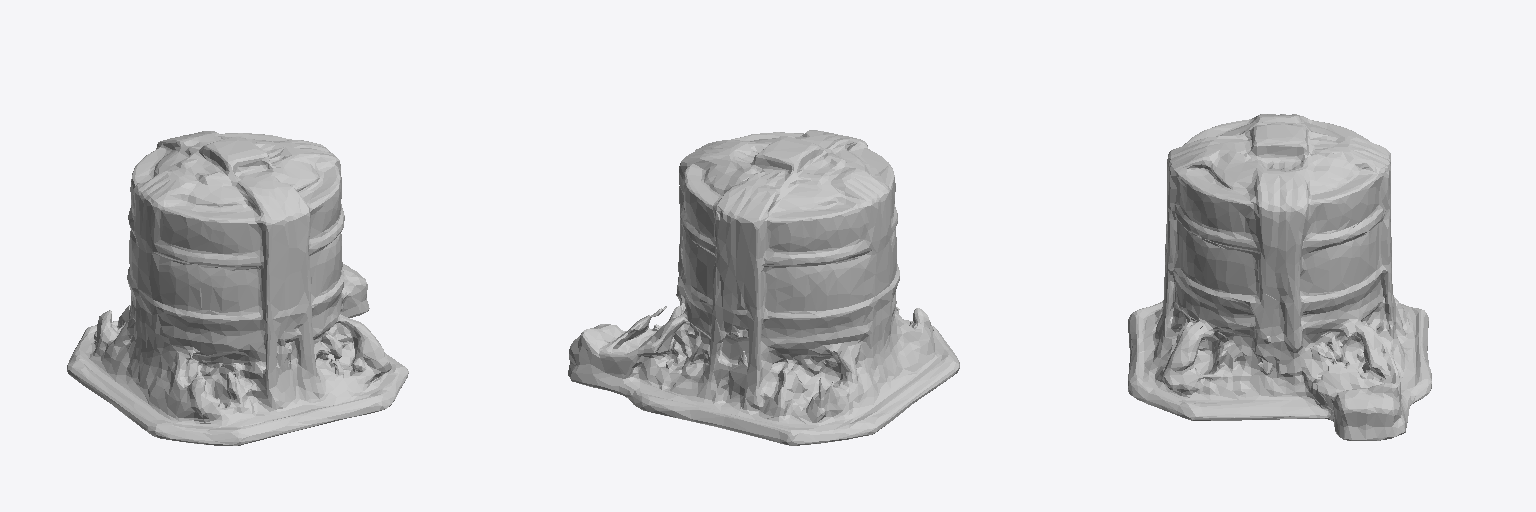
Rendered from 5c3c0e004654_A_futuristic_mine_m.obj.
3 renders of one model, left to right at view 1: azimuth 30°, elevation 25°; view 2: azimuth 150°, elevation 25°; view 3: azimuth 270°, elevation 25°, orthographic.
Parts seen in each view (by area): view 1: mesh; view 2: mesh; view 3: mesh.
Boxes of the visible parts, <box> form: mesh: <box>67,131,408,445</box>; mesh: <box>568,130,959,445</box>; mesh: <box>1128,114,1431,440</box>.
Bounding box in the file's own units: 1 × 0.7336 × 0.8901.